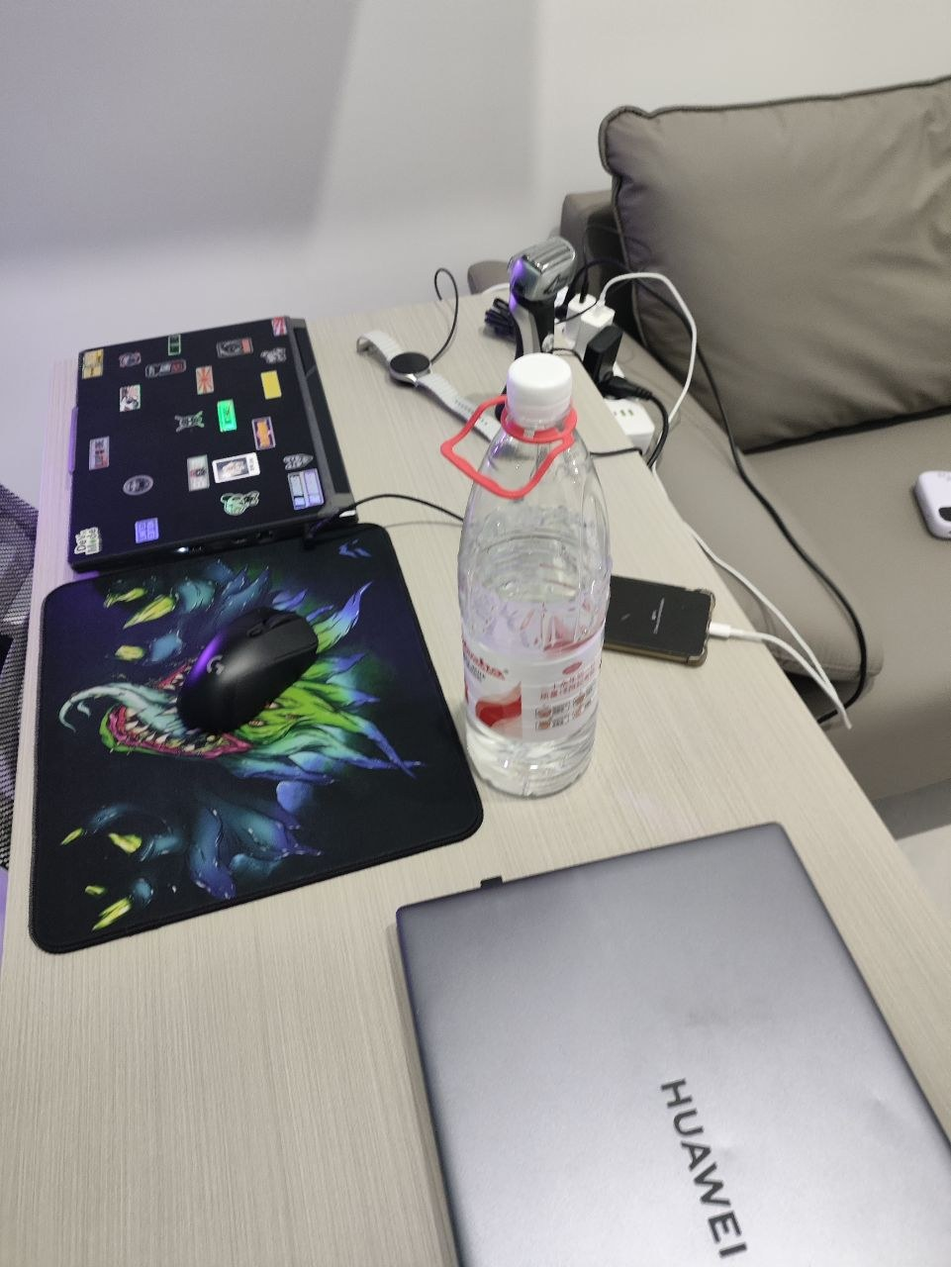cell phone: (602, 573, 715, 666)
laptop: (396, 819, 950, 1265), (67, 315, 358, 572)
